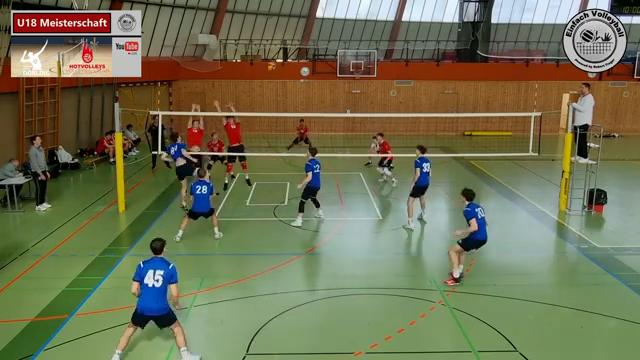attacco: (160, 133, 221, 208)
muro: (213, 97, 255, 192), (184, 99, 206, 159)
